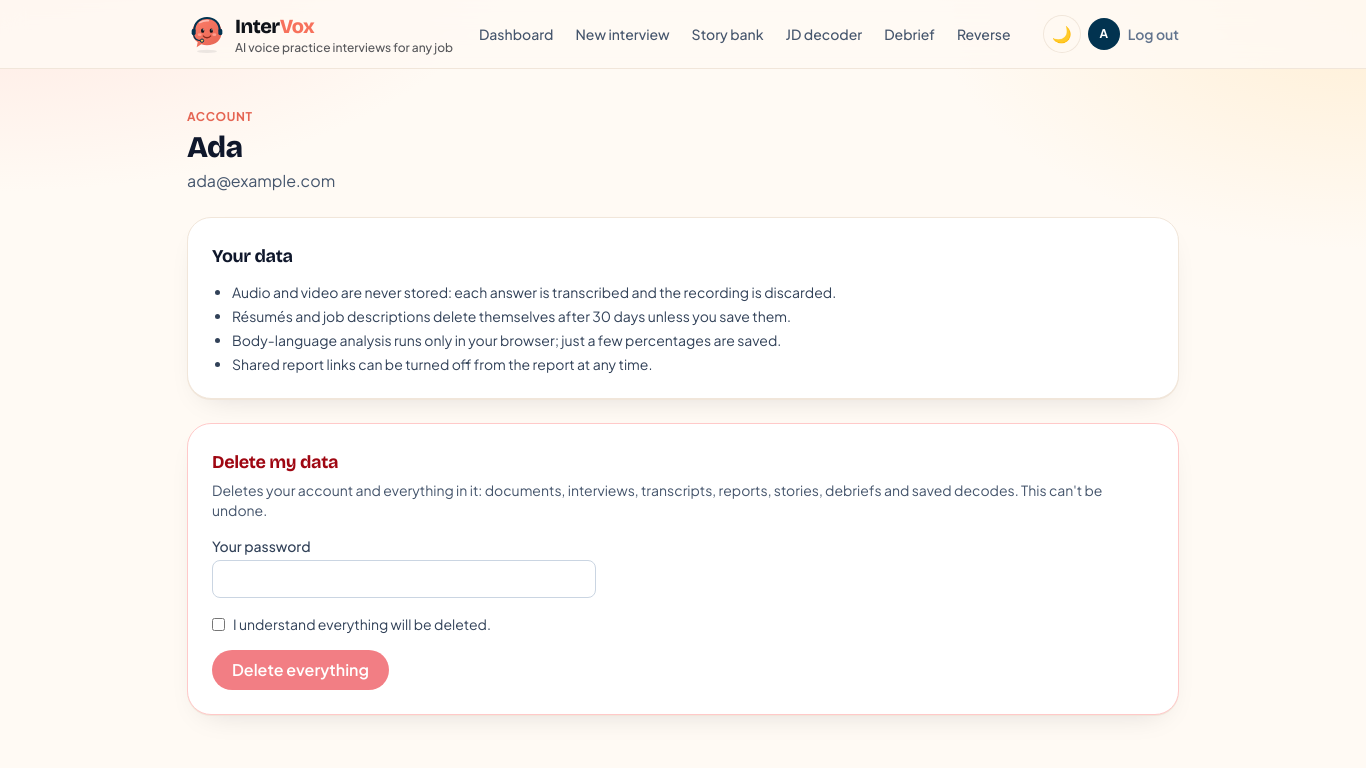
Test: account › deletes everything after the password and confirmation, then logs out
The width and height of the screenshot is (1366, 768).
Expected: the button "Delete everything" is disabled, [212,650,389,690]
Step 1. Type "correct-horse" into the password field labelled "Your password" → coordinates (404, 579), box [212,560,596,598]
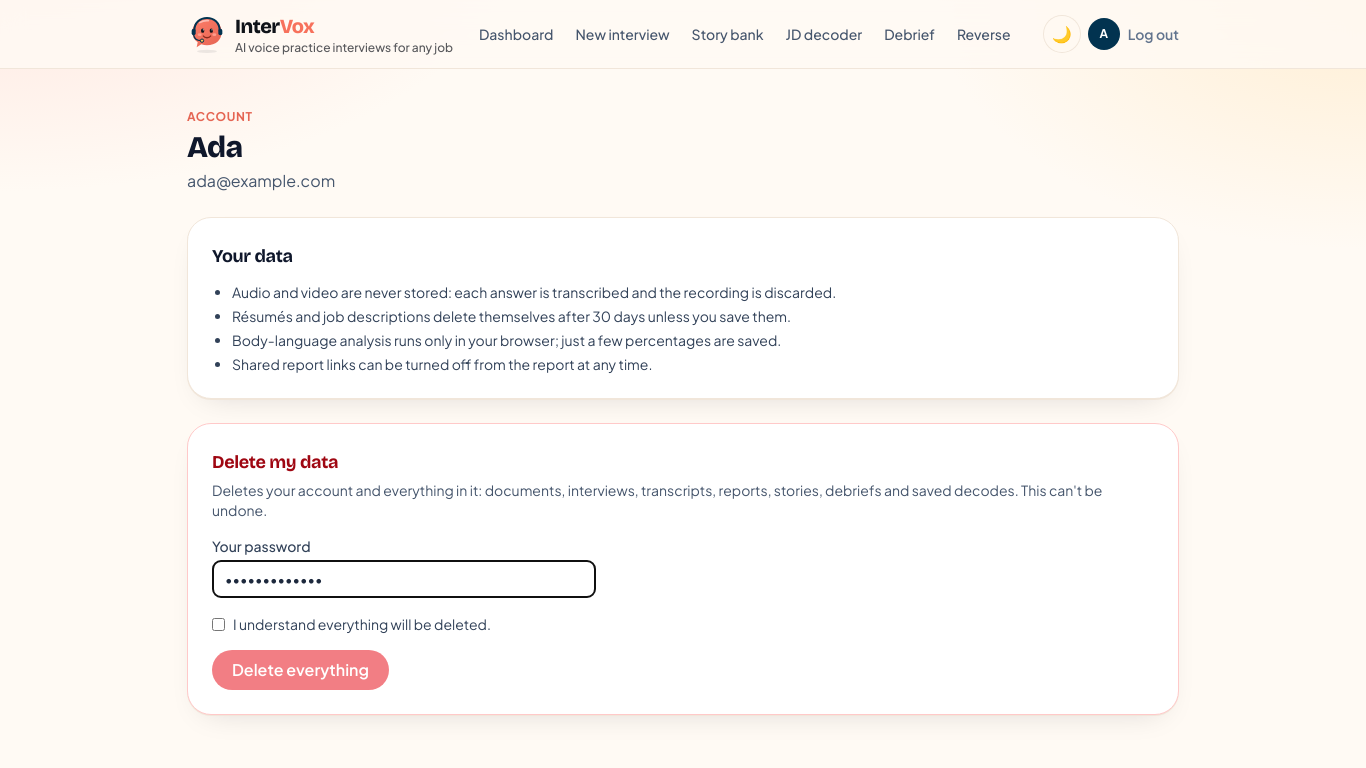
Expected: the button "Delete everything" is disabled, [212,650,389,690]
Step 2. Click the checkbox labelled "I understand everything will be deleted." → coordinates (218, 624), box [212,618,225,630]
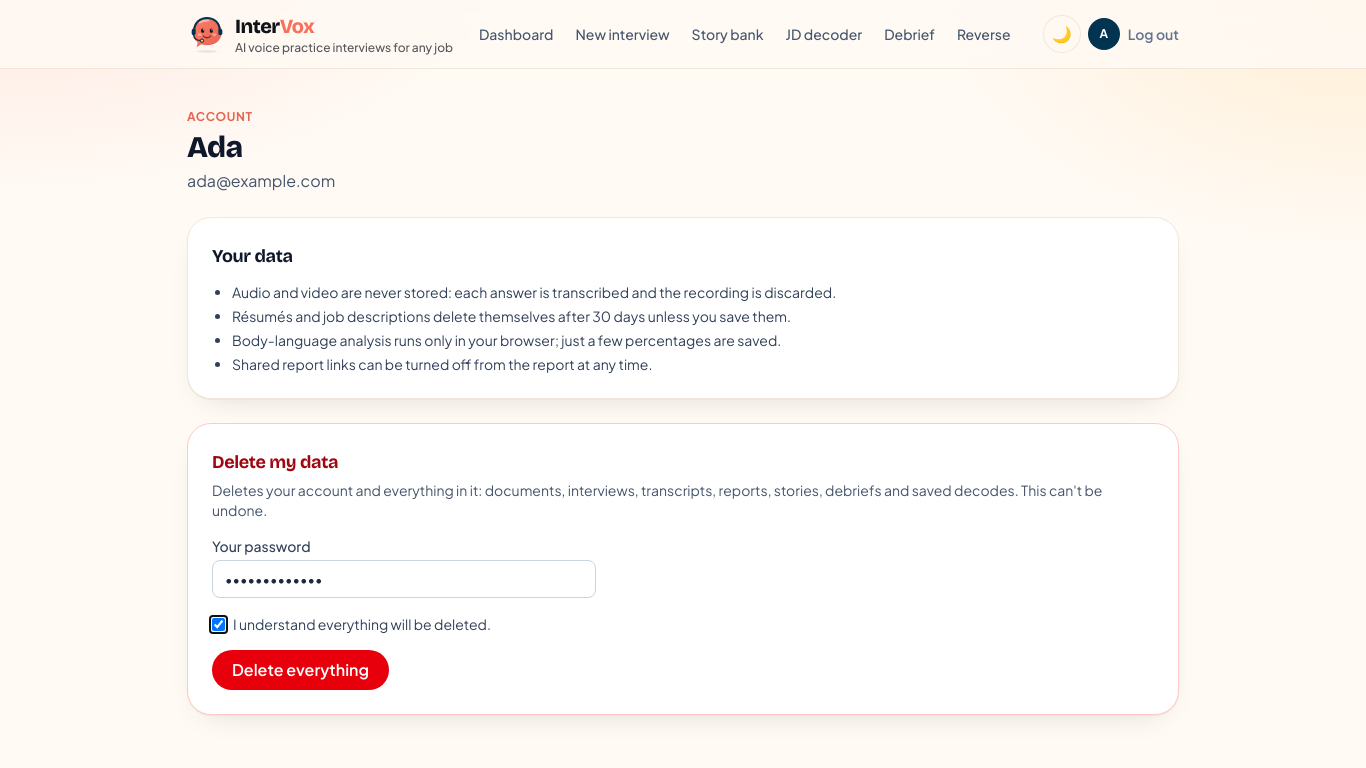
Step 3. Click the button "Delete everything" → coordinates (300, 670), box [212,650,389,690]
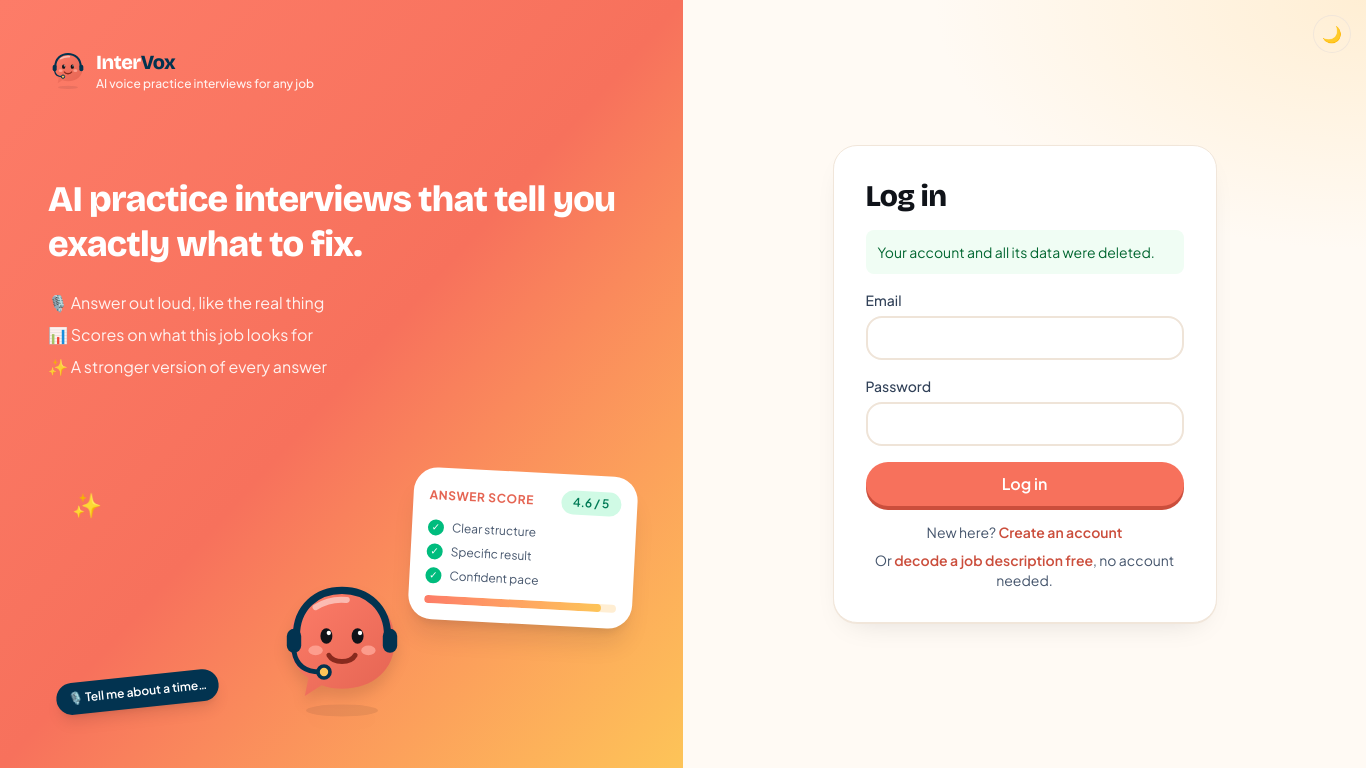
Expected: the text "Your account and all its data were deleted." is shown, [866,230,1184,274]
